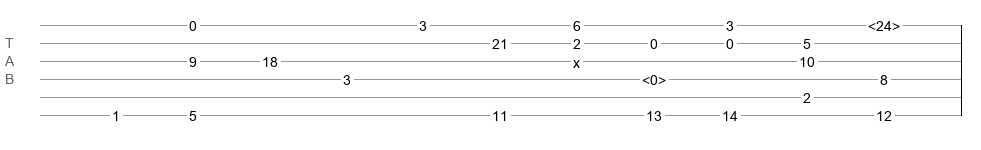0: (189, 18, 197, 28), (650, 36, 658, 46), (726, 36, 734, 46)
1: (112, 108, 120, 118)
10: (799, 54, 815, 64)
11: (492, 108, 508, 118)
12: (876, 108, 892, 118)
13: (646, 108, 662, 118)
14: (722, 108, 738, 118)
18: (262, 54, 278, 64)
2: (573, 36, 581, 46), (803, 90, 811, 100)
21: (492, 36, 508, 46)
3: (343, 72, 351, 82), (419, 18, 427, 28), (726, 18, 734, 28)
5: (189, 108, 197, 118), (803, 36, 811, 46)
6: (573, 18, 581, 28)
8: (880, 72, 888, 82)
9: (189, 54, 197, 64)
harmonic: (868, 18, 900, 28), (642, 72, 666, 82)
x: (573, 55, 580, 63)
